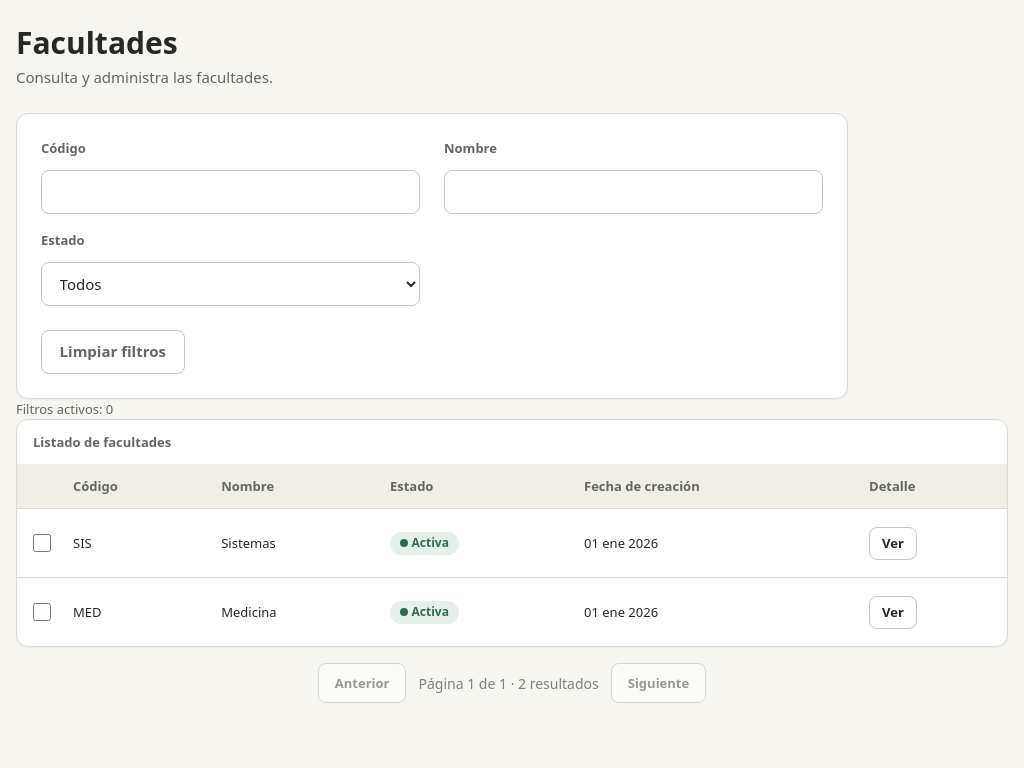
Test: ListadoFacultadesComponent › no muestra acciones no permitidas en la barra contextual
Click the cell "SIS" at (131, 544), box [57, 509, 205, 578]
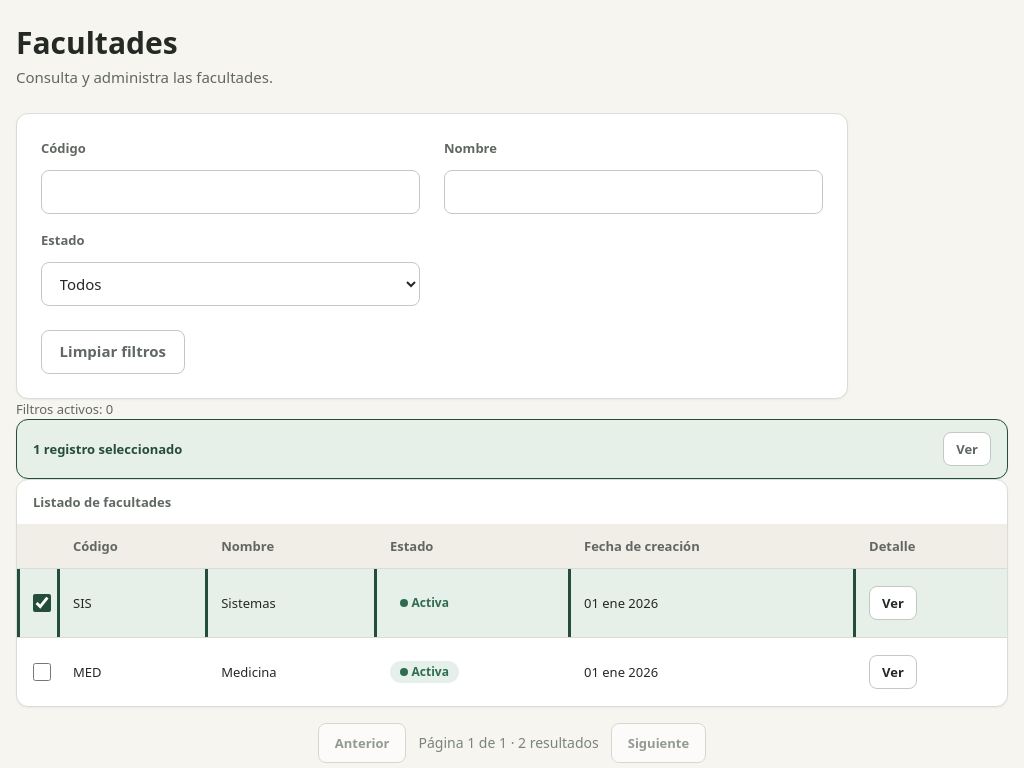
Now the button "Ver" is shown, box [943, 432, 991, 466]
